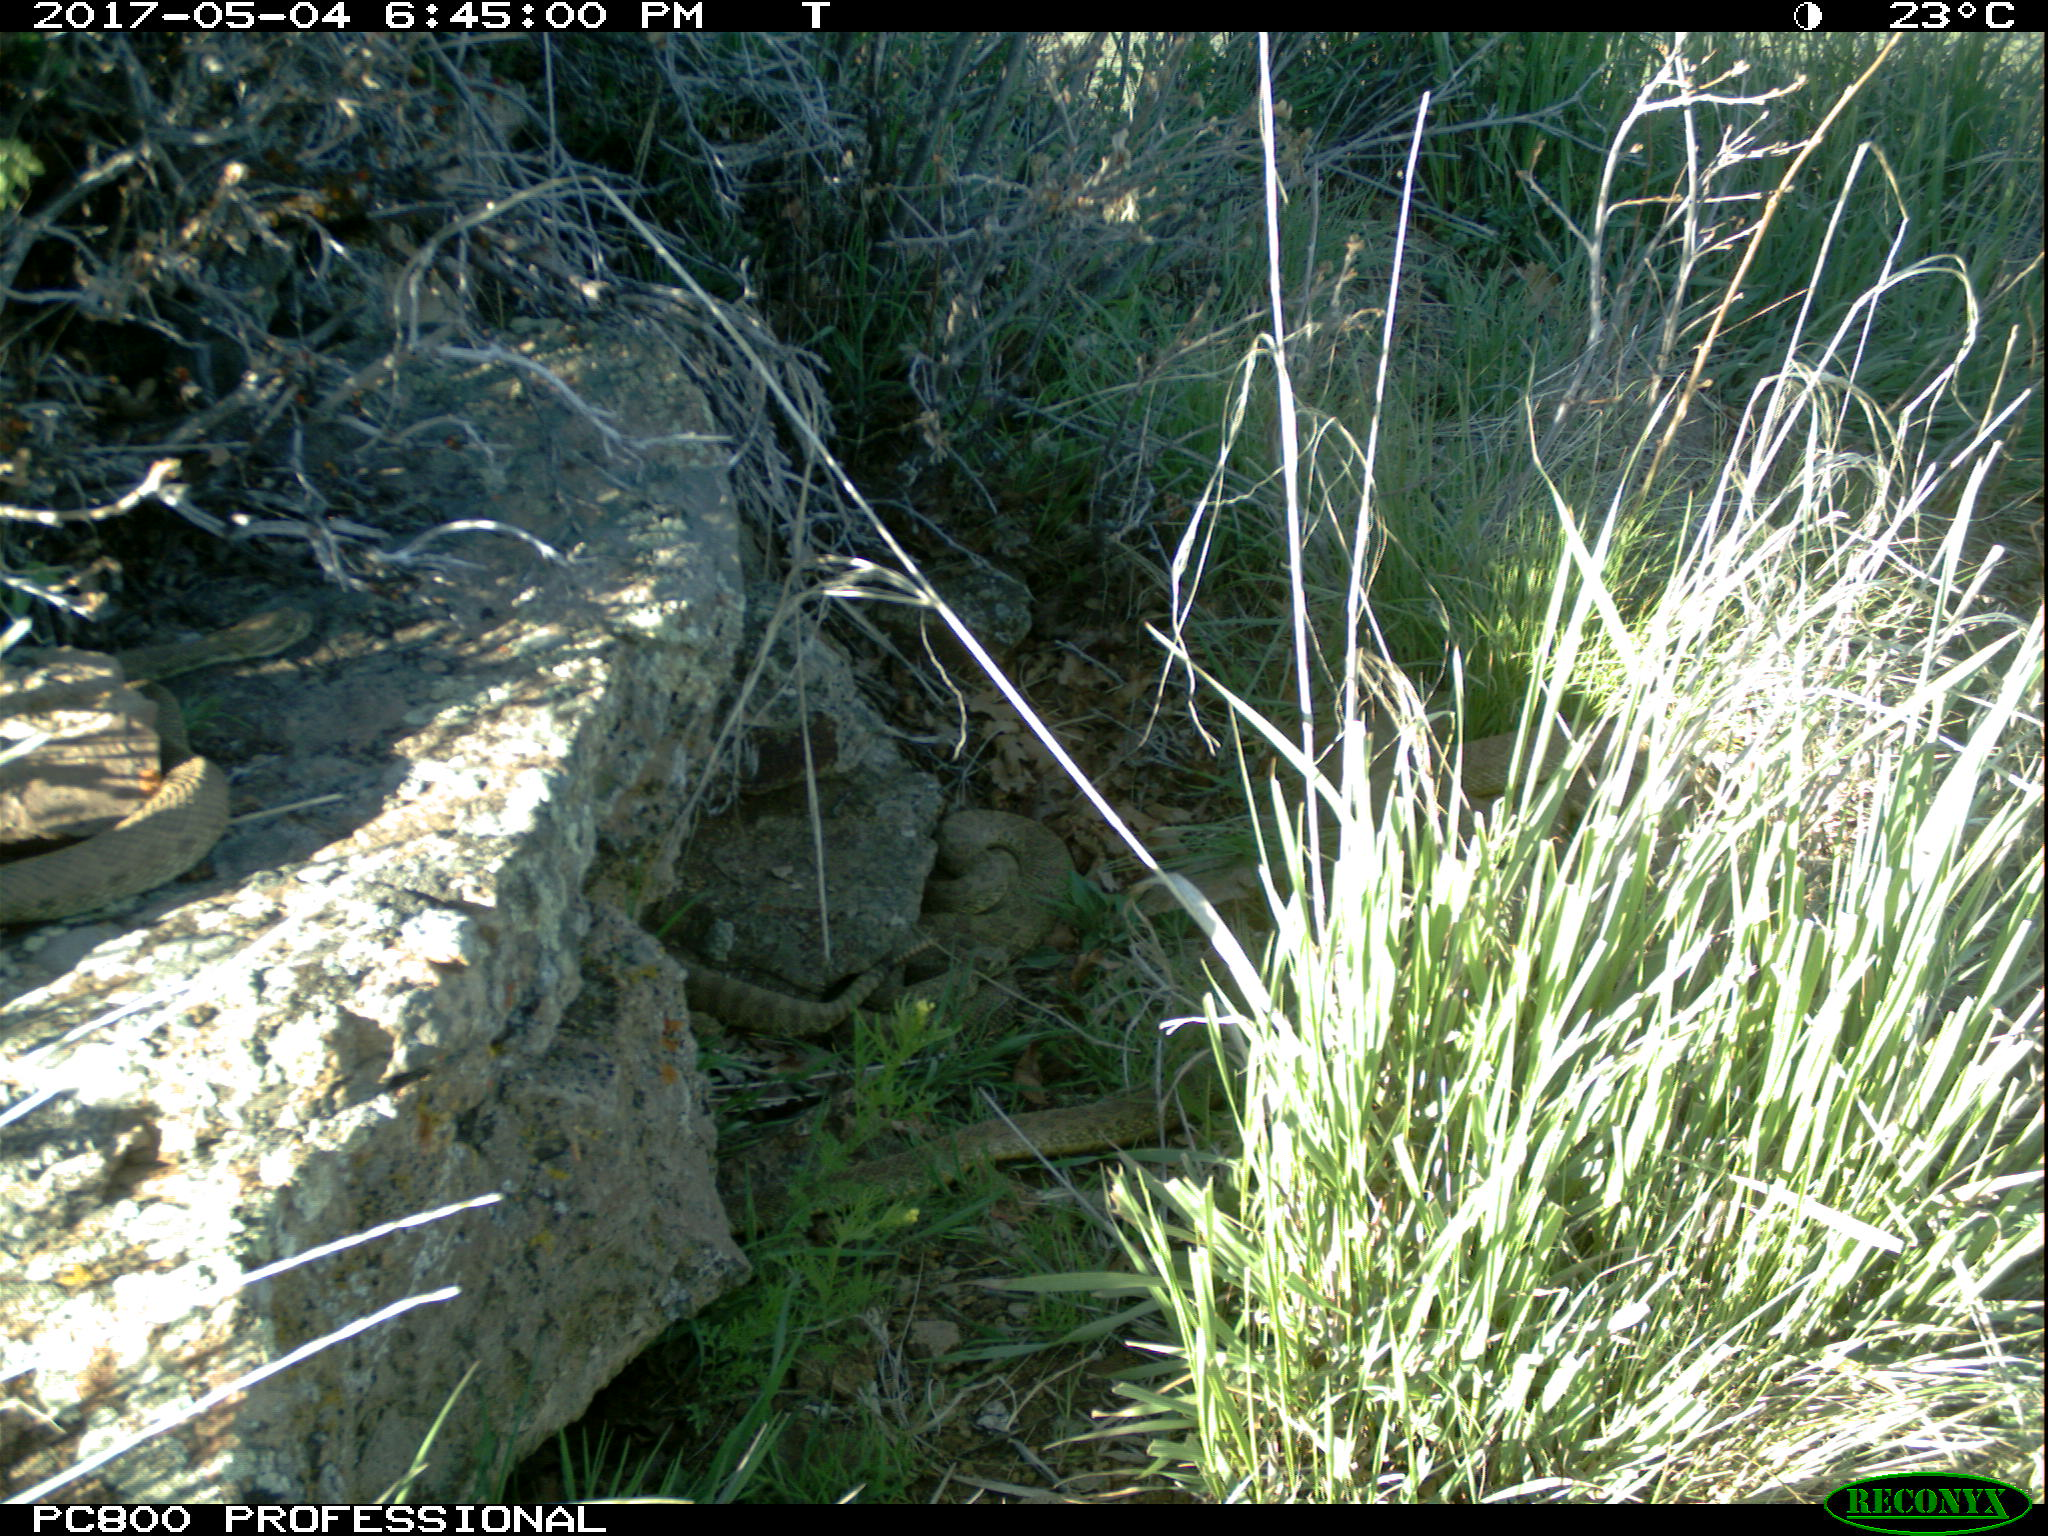snake: (805, 1042, 1205, 1208), (2, 753, 239, 925), (1417, 715, 1675, 837), (908, 808, 1082, 957), (668, 952, 930, 1042), (124, 607, 324, 684)
